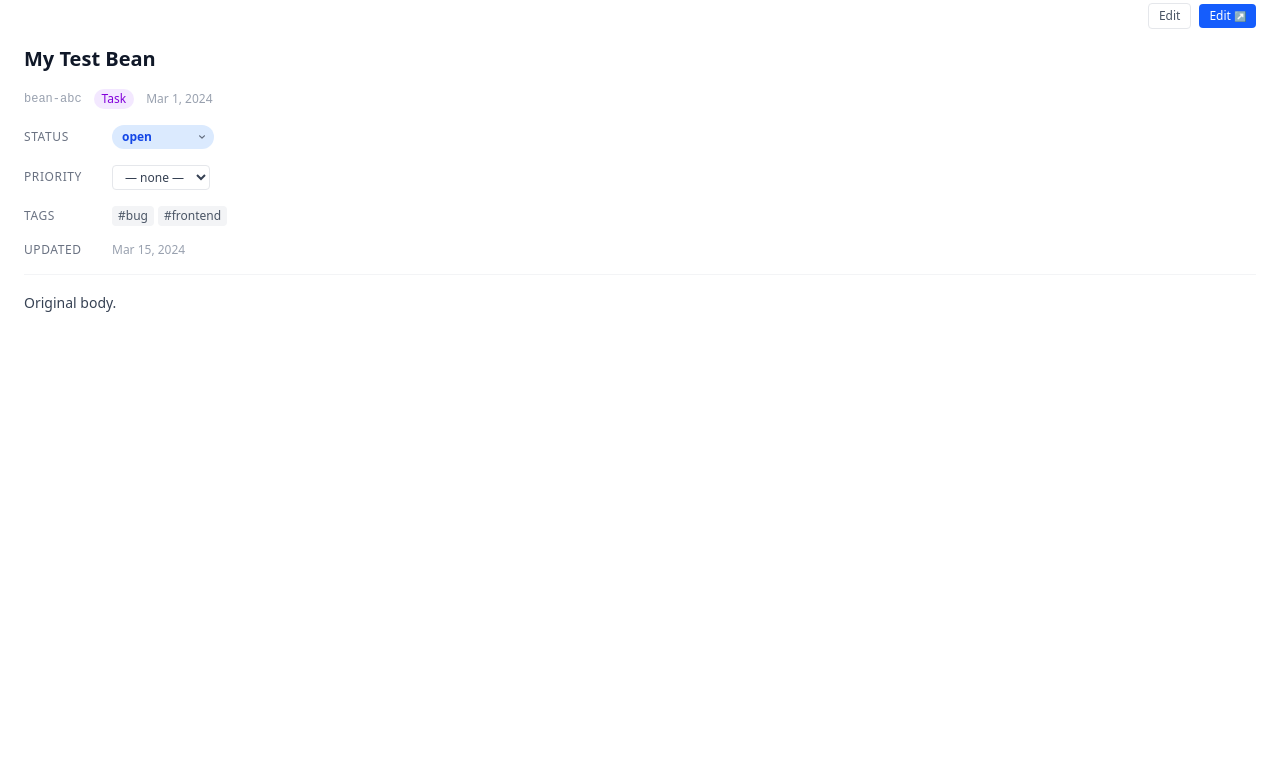
Test: BeanDetail inline body editor (beanstalk-crjm) › offers the body for editing, preloaded with the current value
Click the button "Edit" at (1170, 16), box [1148,3,1191,29]
(page scrolled)
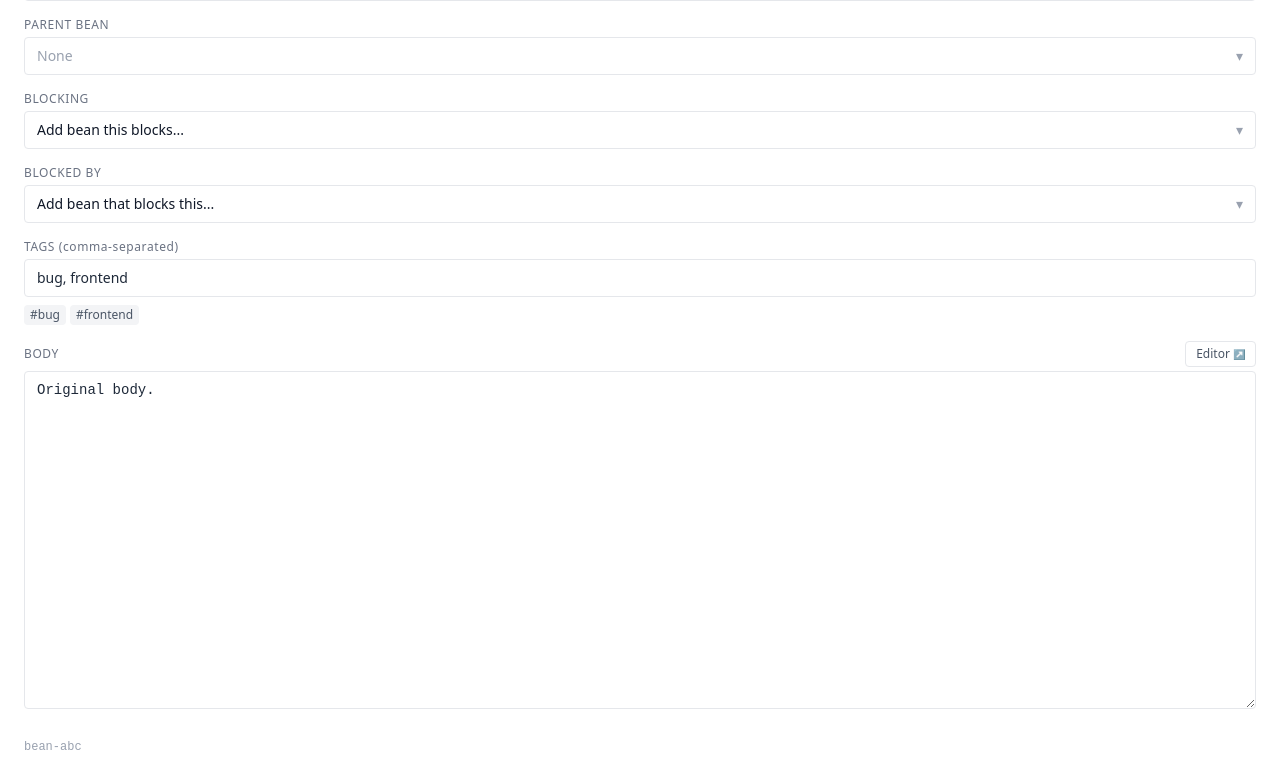
Check: the text box with placeholder "Markdown body… type [ [ to link a bean" holds "Original body.", box [24,371,1256,709]
